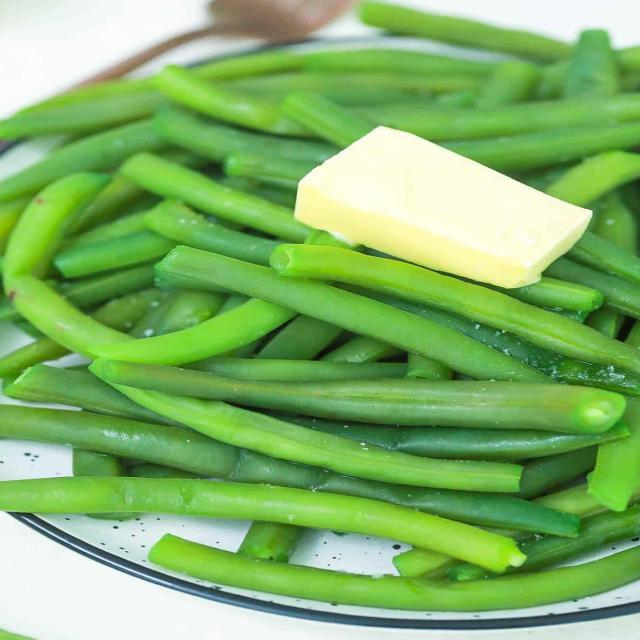Beans: (0, 12, 639, 627)
